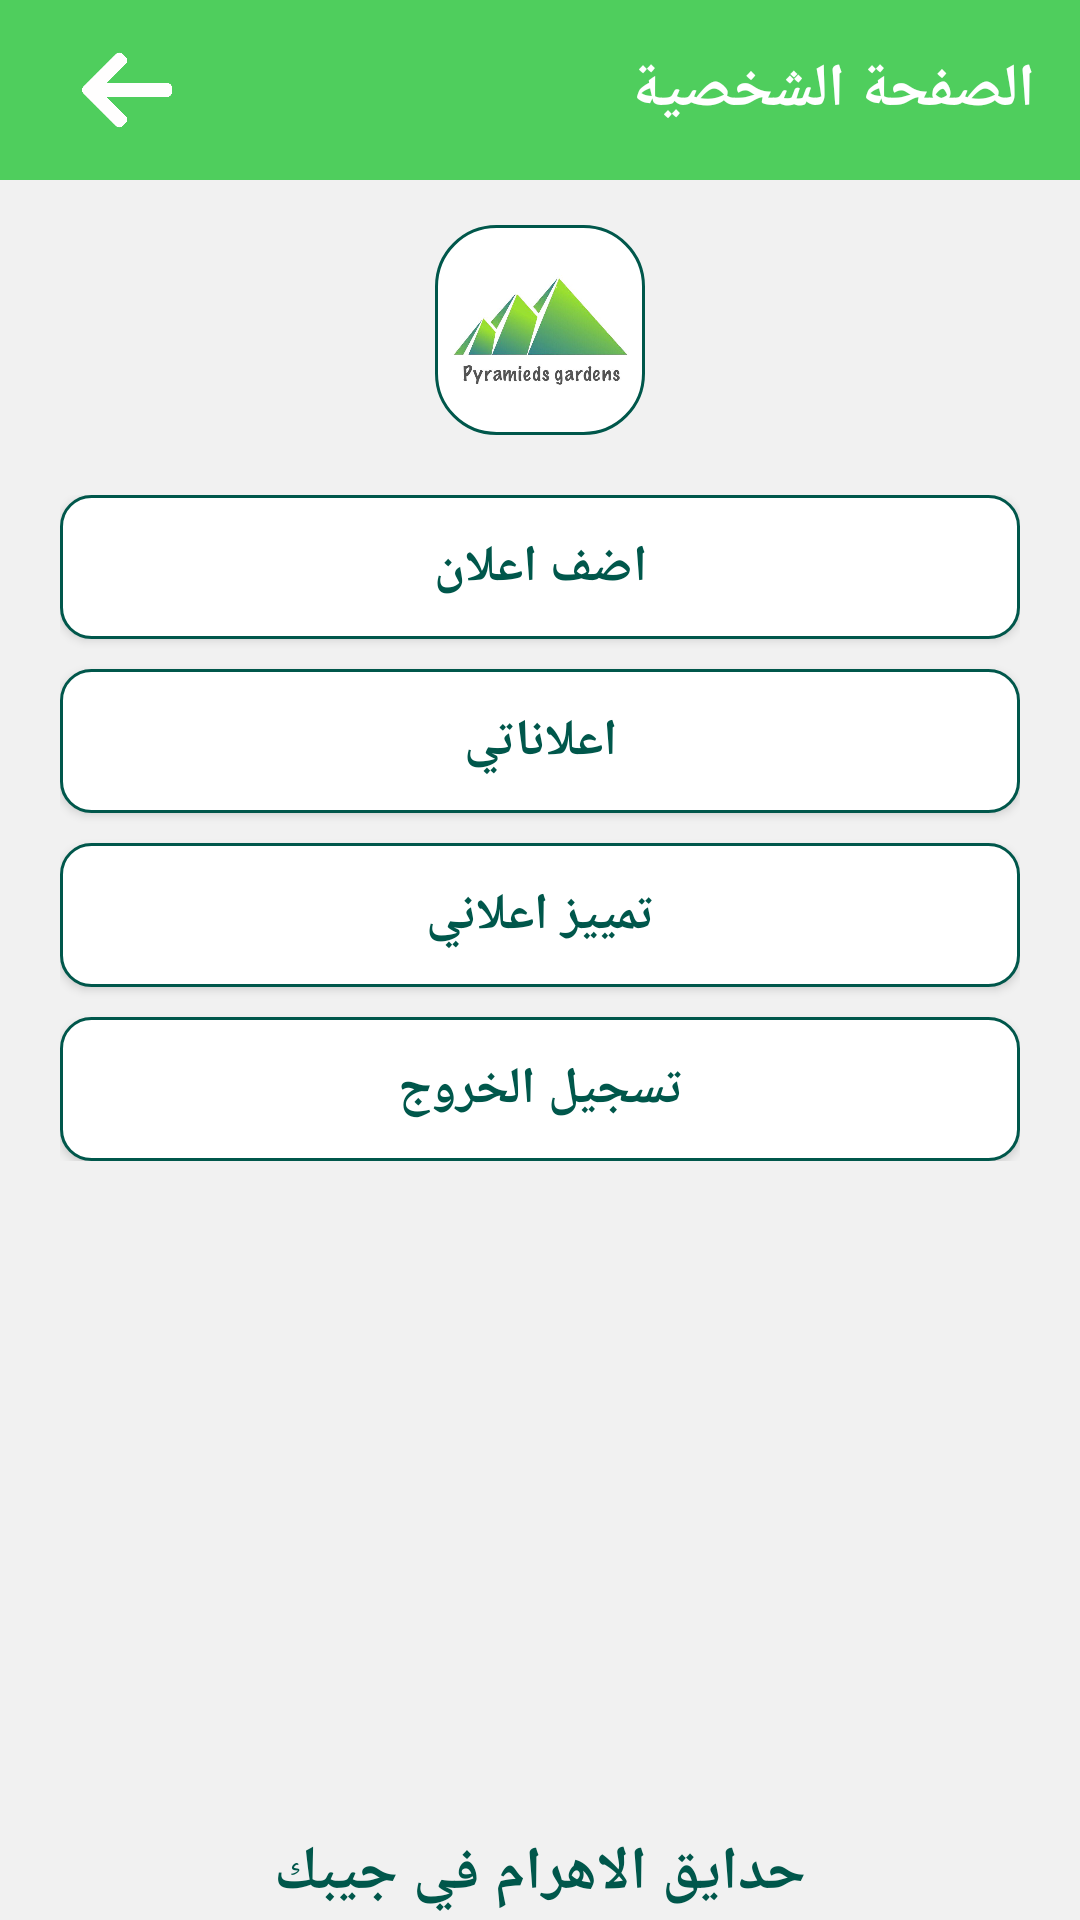

Locate icon controls on the screen. Image size 1080x1920, boxes as (x1, y1, x2, y2).
backyyy: (82, 53, 172, 127)
